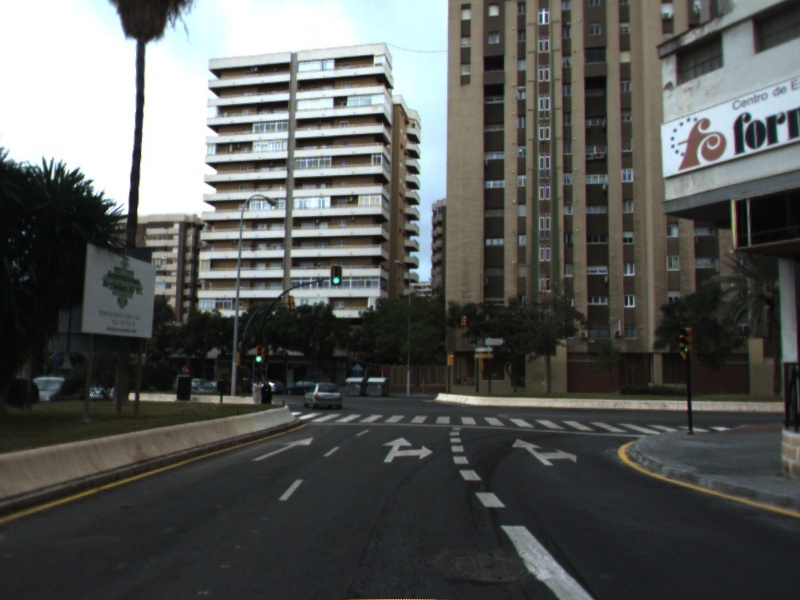STRAIGHT: (250, 435, 315, 463)
STRAIGHT_RIGHT: (510, 436, 579, 467), (380, 435, 436, 464)
